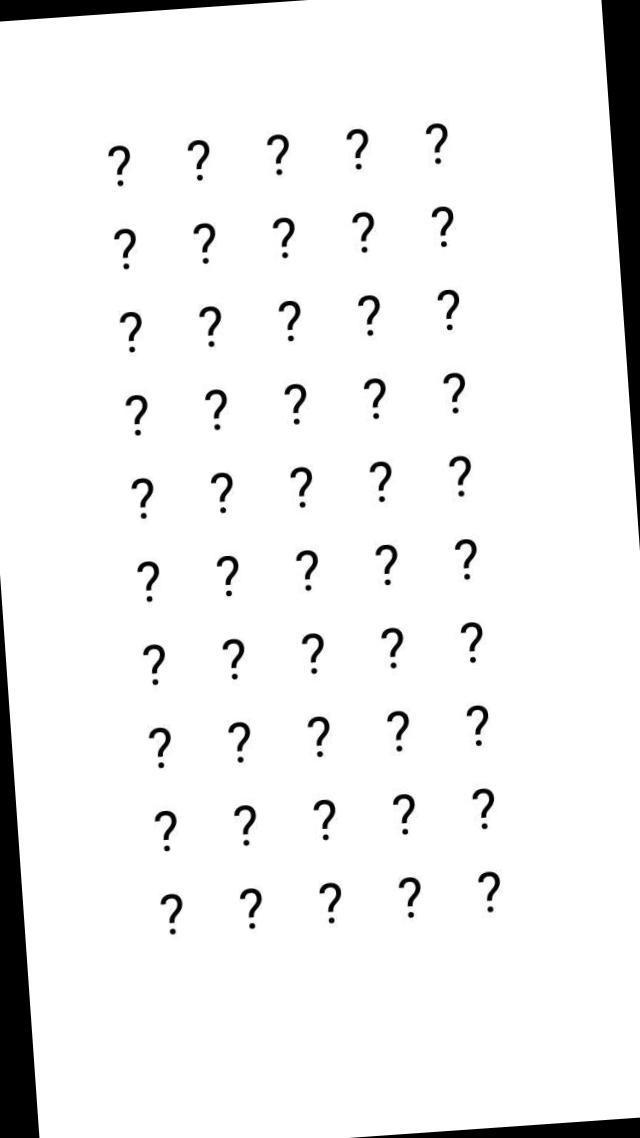ASCII: (154, 882, 189, 949), (340, 114, 376, 177), (420, 110, 456, 172), (393, 866, 428, 929), (473, 860, 507, 924), (236, 877, 270, 940), (103, 132, 138, 192), (128, 554, 166, 608), (316, 872, 348, 936), (433, 280, 466, 338), (286, 545, 324, 595), (186, 216, 222, 268), (113, 306, 149, 358), (272, 294, 308, 346), (195, 299, 229, 354), (350, 288, 384, 342), (362, 455, 398, 506), (123, 474, 159, 524), (137, 638, 170, 692), (262, 128, 296, 180), (218, 632, 252, 684), (388, 788, 422, 840), (280, 377, 312, 432), (436, 367, 471, 417), (180, 133, 214, 184), (199, 384, 233, 435), (106, 224, 142, 272), (450, 532, 483, 584), (209, 550, 244, 599), (268, 212, 302, 262), (426, 200, 459, 251), (284, 462, 318, 511), (144, 722, 176, 774), (372, 538, 403, 591), (120, 389, 152, 440), (348, 207, 380, 257), (207, 468, 240, 516), (462, 702, 495, 750), (381, 708, 414, 755), (228, 802, 261, 849), (360, 374, 391, 424), (309, 794, 340, 844), (302, 712, 332, 763), (378, 623, 409, 672), (457, 617, 488, 666), (298, 628, 328, 678), (468, 783, 498, 833), (446, 452, 476, 500), (150, 808, 180, 855), (226, 718, 253, 766)
